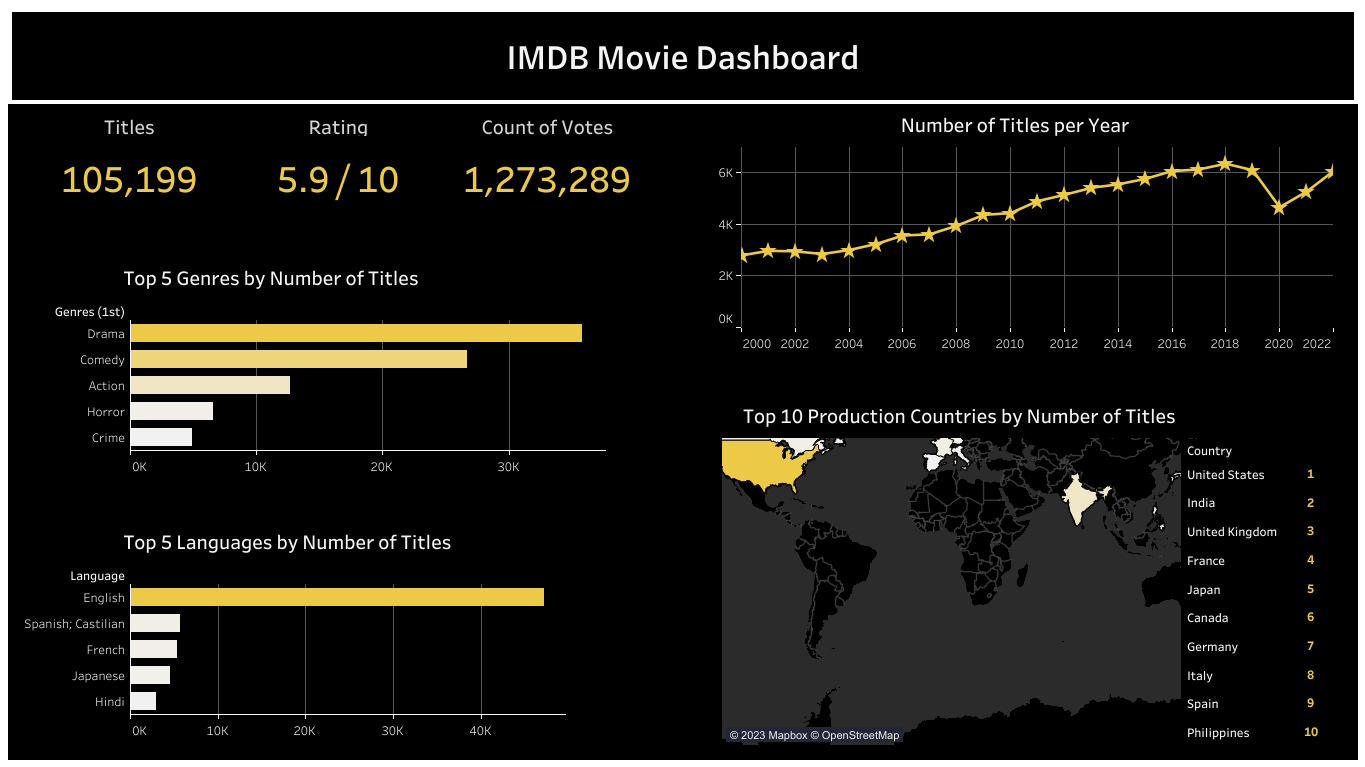

This screenshot's page, from the dashboard's own definition file:
{"tool":"tableau","page":{"name":"IMDB Movie Dashboard","canvas":[1366,768],"ordinal":0},"visuals":[{"type":"text","box":[8,8,1350,95.8]},{"type":"text","box":[8,103.8,1350,656.2]},{"type":"worksheet","title":"number of movies by year","mark":"Automatic","rows":["Calculation_659777350463983618","Calculation_659777350463983618"],"cols":["Year of Release"],"box":[697,105,636,252]},{"type":"worksheet","title":"kpi","mark":"Automatic","box":[25,116,627,103]},{"type":"worksheet","title":"top 5 genre","mark":"Bar","rows":["genres (1st)"],"cols":["Calculation_659777350463983618"],"box":[50,258,555,222]},{"type":"worksheet","title":"top 10 countries with most titles","mark":"Automatic","box":[722,396,475,349]},{"type":"worksheet","title":"top 10 countries - ranks","mark":"Automatic","rows":["Country"],"box":[1181,439,161,307]},{"type":"worksheet","title":"top 5 languages","mark":"Automatic","rows":["Language"],"cols":["Calculation_659777350463983618"],"box":[10,522,555,222]}]}

Visuals, with their boxes in screenshot pixels (x1, y1, x2, y2), scaled from the page's 1366x768 canvas onto the 1365x767 screenshot:
text: x1=8 y1=8 x2=1357 y2=104
text: x1=8 y1=104 x2=1357 y2=759
"number of movies by year" worksheet: x1=696 y1=105 x2=1332 y2=357
"kpi" worksheet: x1=25 y1=116 x2=652 y2=219
"top 5 genre" worksheet (Bar marks): x1=50 y1=258 x2=605 y2=479
"top 10 countries with most titles" worksheet: x1=721 y1=395 x2=1196 y2=744
"top 10 countries - ranks" worksheet: x1=1180 y1=438 x2=1341 y2=745
"top 5 languages" worksheet: x1=10 y1=521 x2=565 y2=743
